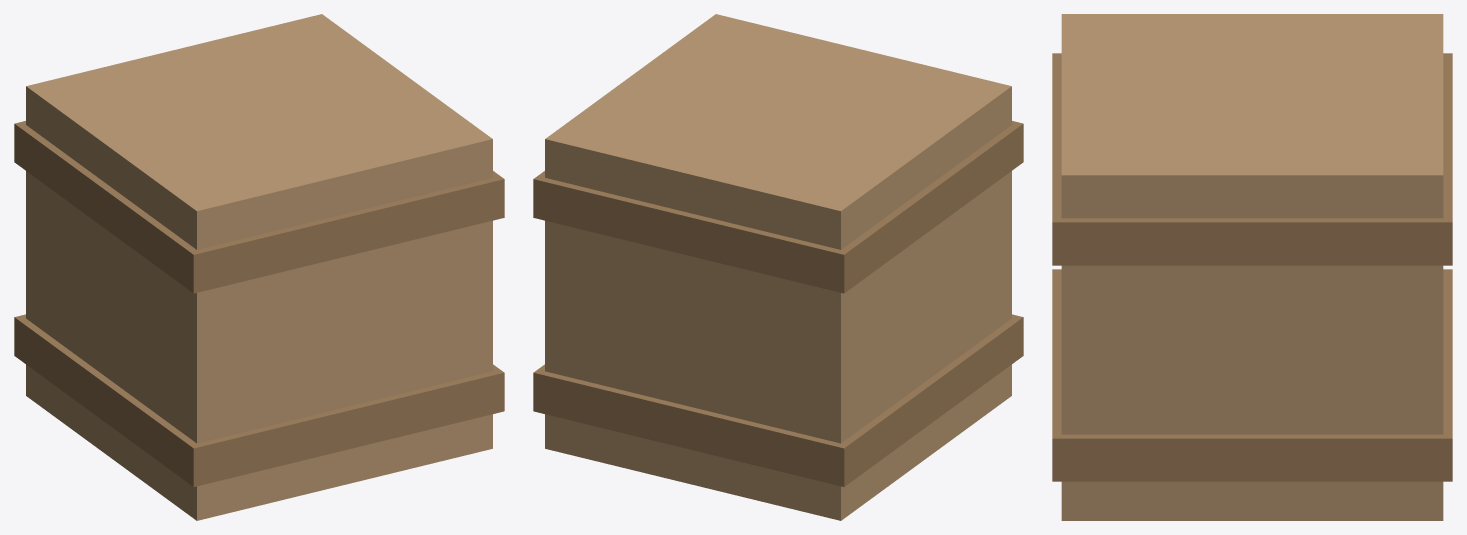
File: crate.glb
The picture shows the model from 3 angles, left to right: view 1: azimuth 30°, elevation 25°; view 2: azimuth 150°, elevation 25°; view 3: azimuth 270°, elevation 25°; orthographic projection. The views are drawn at different scales.
Parts seen in each view (by area): view 1: body, band_a, band_b; view 2: body, band_a, band_b; view 3: body, band_a, band_b.
Part boxes in pixels (x1,y1,x2,y2): body: (26,14,492,520); band_a: (14,314,504,486); band_b: (14,121,504,293); body: (545,14,1011,520); band_a: (533,314,1023,486); band_b: (533,121,1023,293); body: (1061,14,1443,520); band_a: (1052,269,1452,481); band_b: (1052,53,1452,265).
Bounding box in the file's own units: 0.84 × 0.8 × 0.84.
